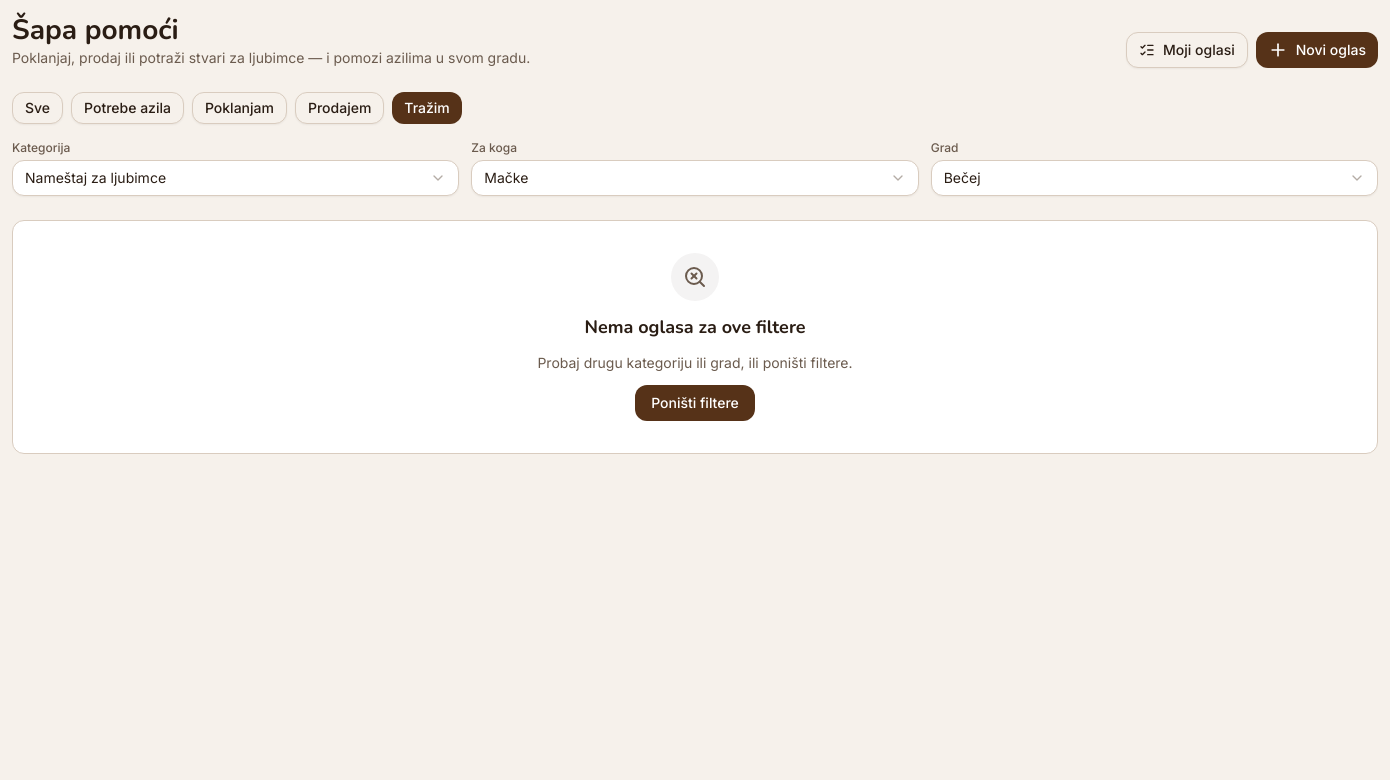
Test case: S32 Šapa pomoći › FR-61 #5: empty with filters shows Poništi filtere, which clears every filter
The width and height of the screenshot is (1390, 780).
Expected: the heading "Nema oglasa za ove filtere" is shown, [584,313,806,341]
Click the button "Poništi filtere" at (695, 403), box [635,385,755,421]
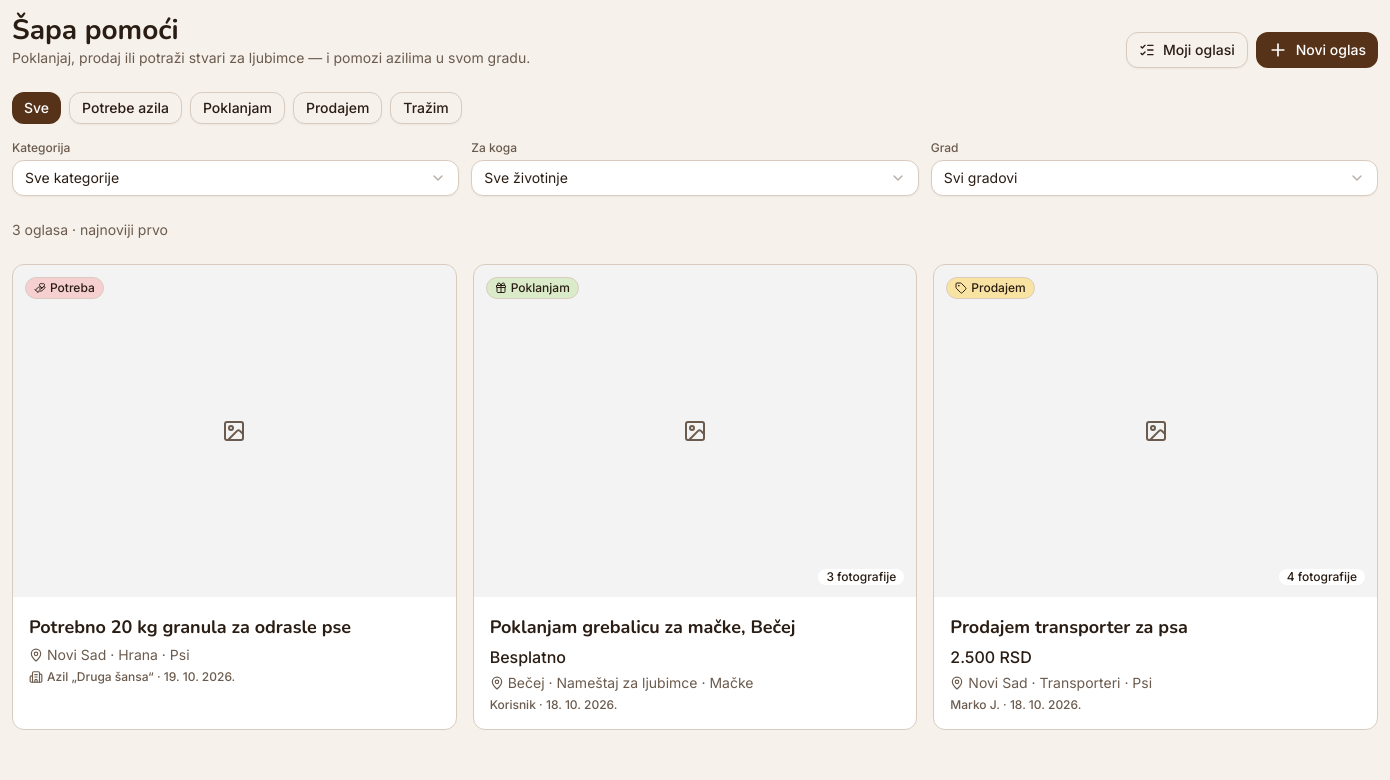
Expected: the text "3 oglasa · najnoviji prvo" is shown, [12,221,168,238]
